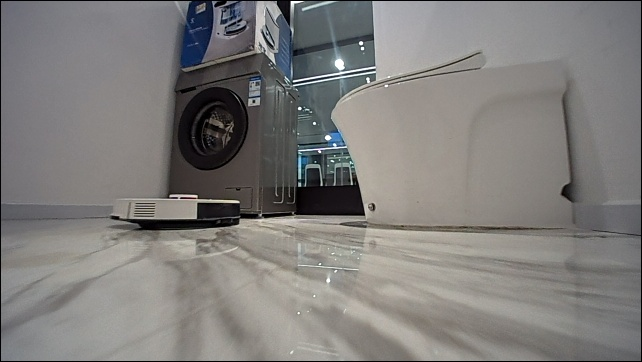toilet: (329, 47, 577, 230)
washing_machine: (167, 51, 300, 216)
